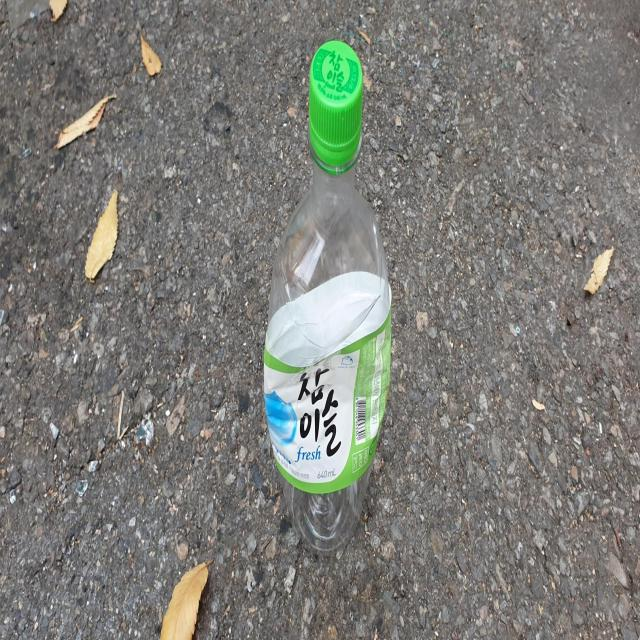plastic: (264, 38, 391, 554)
